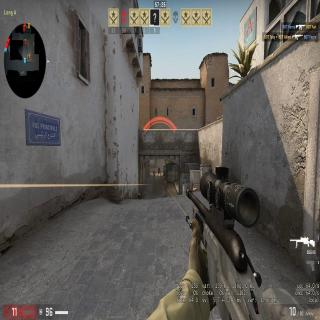T-Body: (164, 178, 168, 196), (153, 169, 155, 180), (158, 167, 160, 176)
T-Head: (164, 178, 166, 182), (158, 167, 159, 168), (154, 169, 154, 171)
